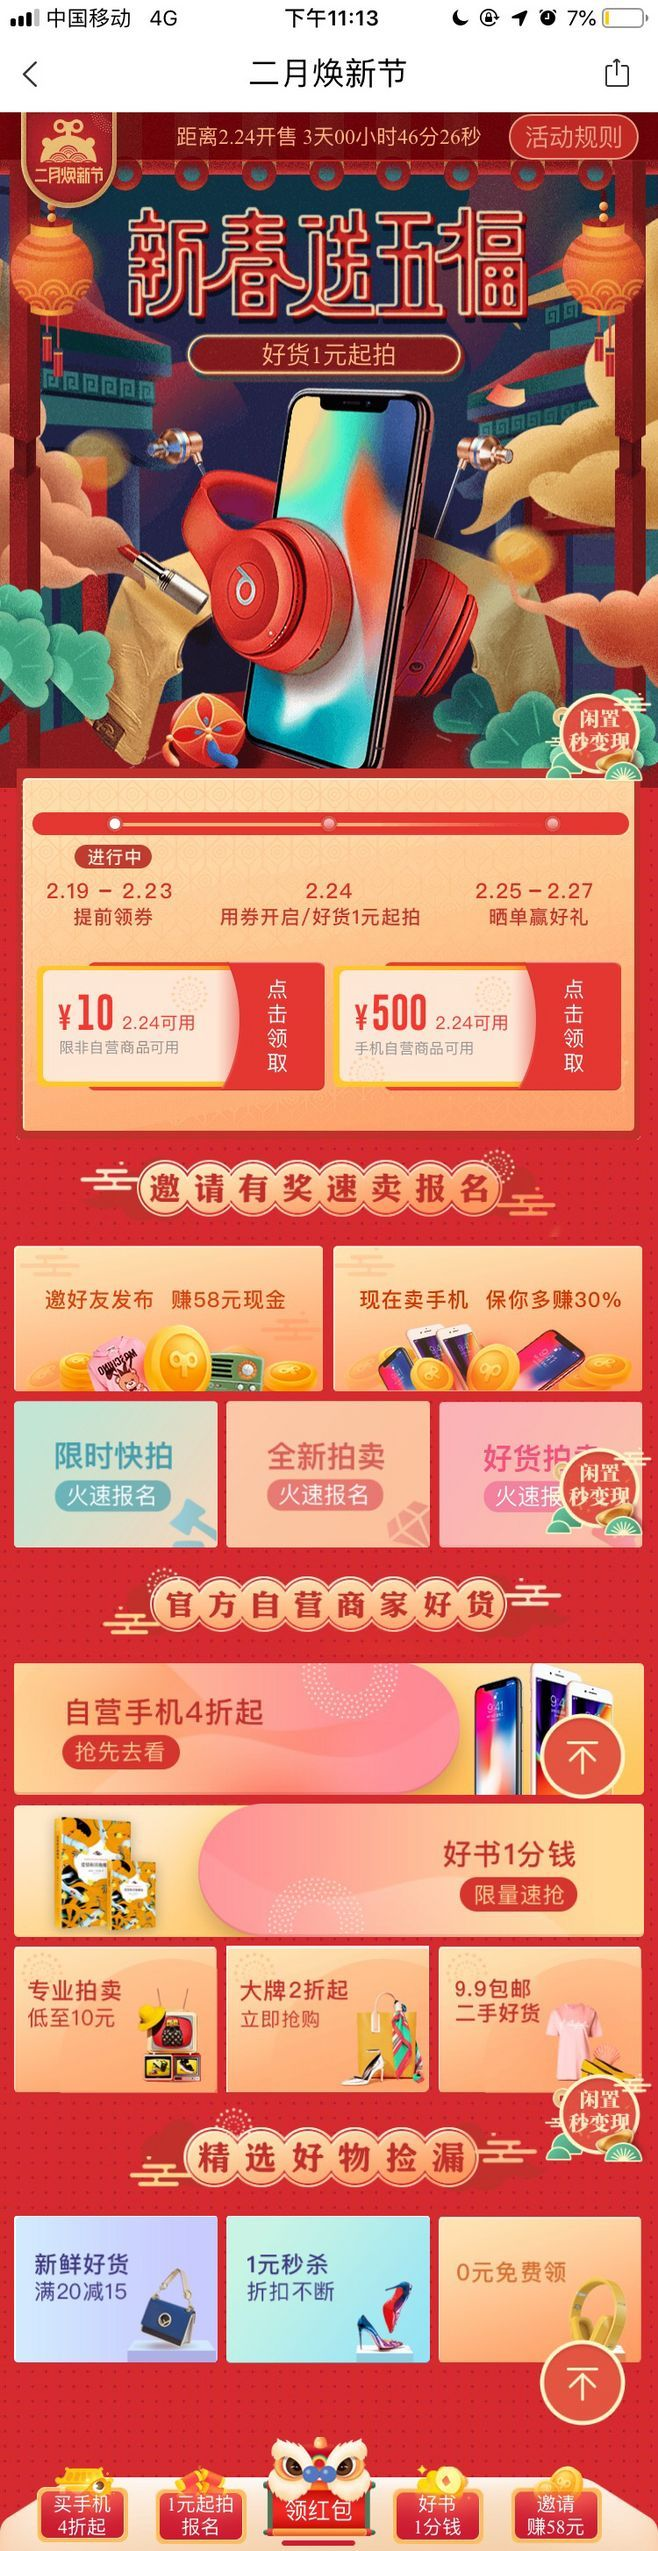floors: (2, 1565, 658, 2099), (2, 1150, 658, 1555), (2, 786, 658, 1139), (2, 2107, 658, 2374)
toutu: (2, 112, 658, 779)
